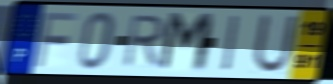0: (76, 9, 117, 71)
F: (33, 10, 81, 69)
I: (221, 13, 242, 74)
M: (156, 11, 217, 75)
R: (119, 14, 169, 70)
U: (250, 12, 301, 76)
